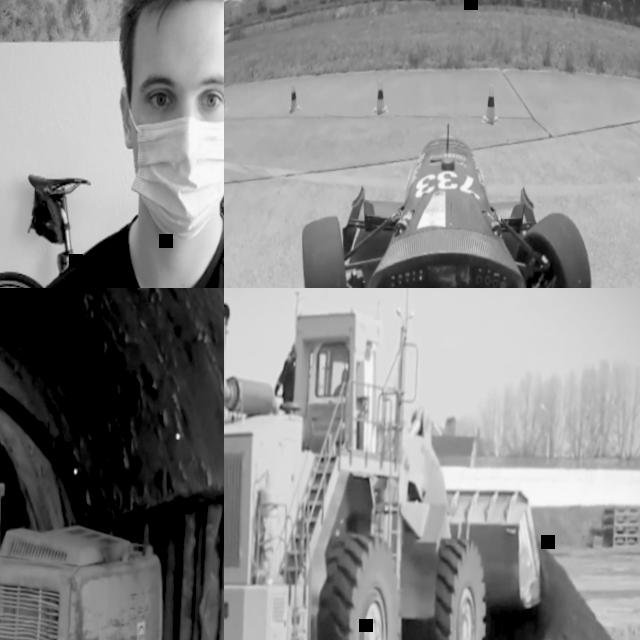Mask: (113, 89, 224, 245)
NO-Safety Vest: (33, 215, 224, 288)
Person: (0, 0, 224, 288), (333, 369, 348, 396)
Safety Cone: (481, 87, 501, 129), (372, 75, 390, 118), (286, 82, 301, 117), (224, 92, 227, 118)
vehicle: (224, 288, 556, 640), (275, 112, 600, 288), (0, 343, 174, 640)
